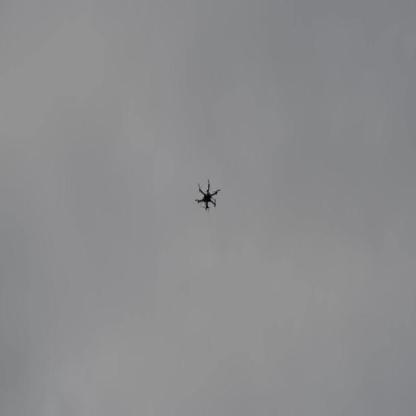drone: (196, 179, 222, 210)
